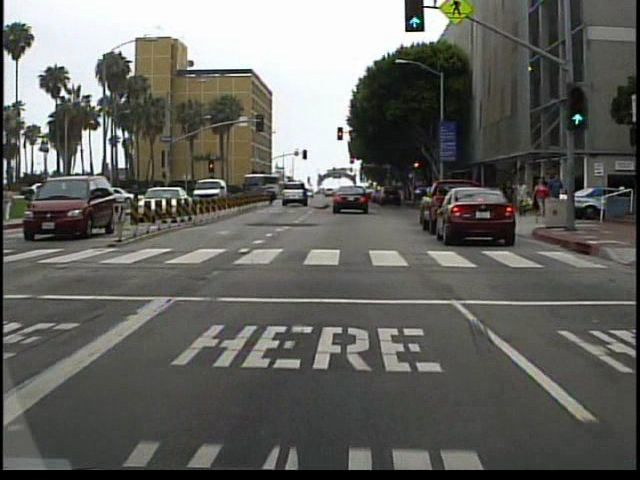person: (547, 171, 565, 224), (533, 178, 551, 223), (516, 177, 531, 221), (5, 180, 21, 220)
